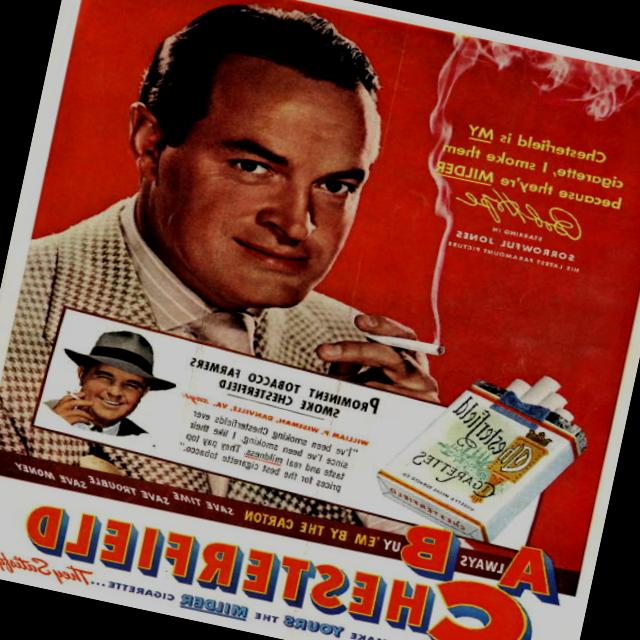cigarette: (354, 316, 465, 370)
